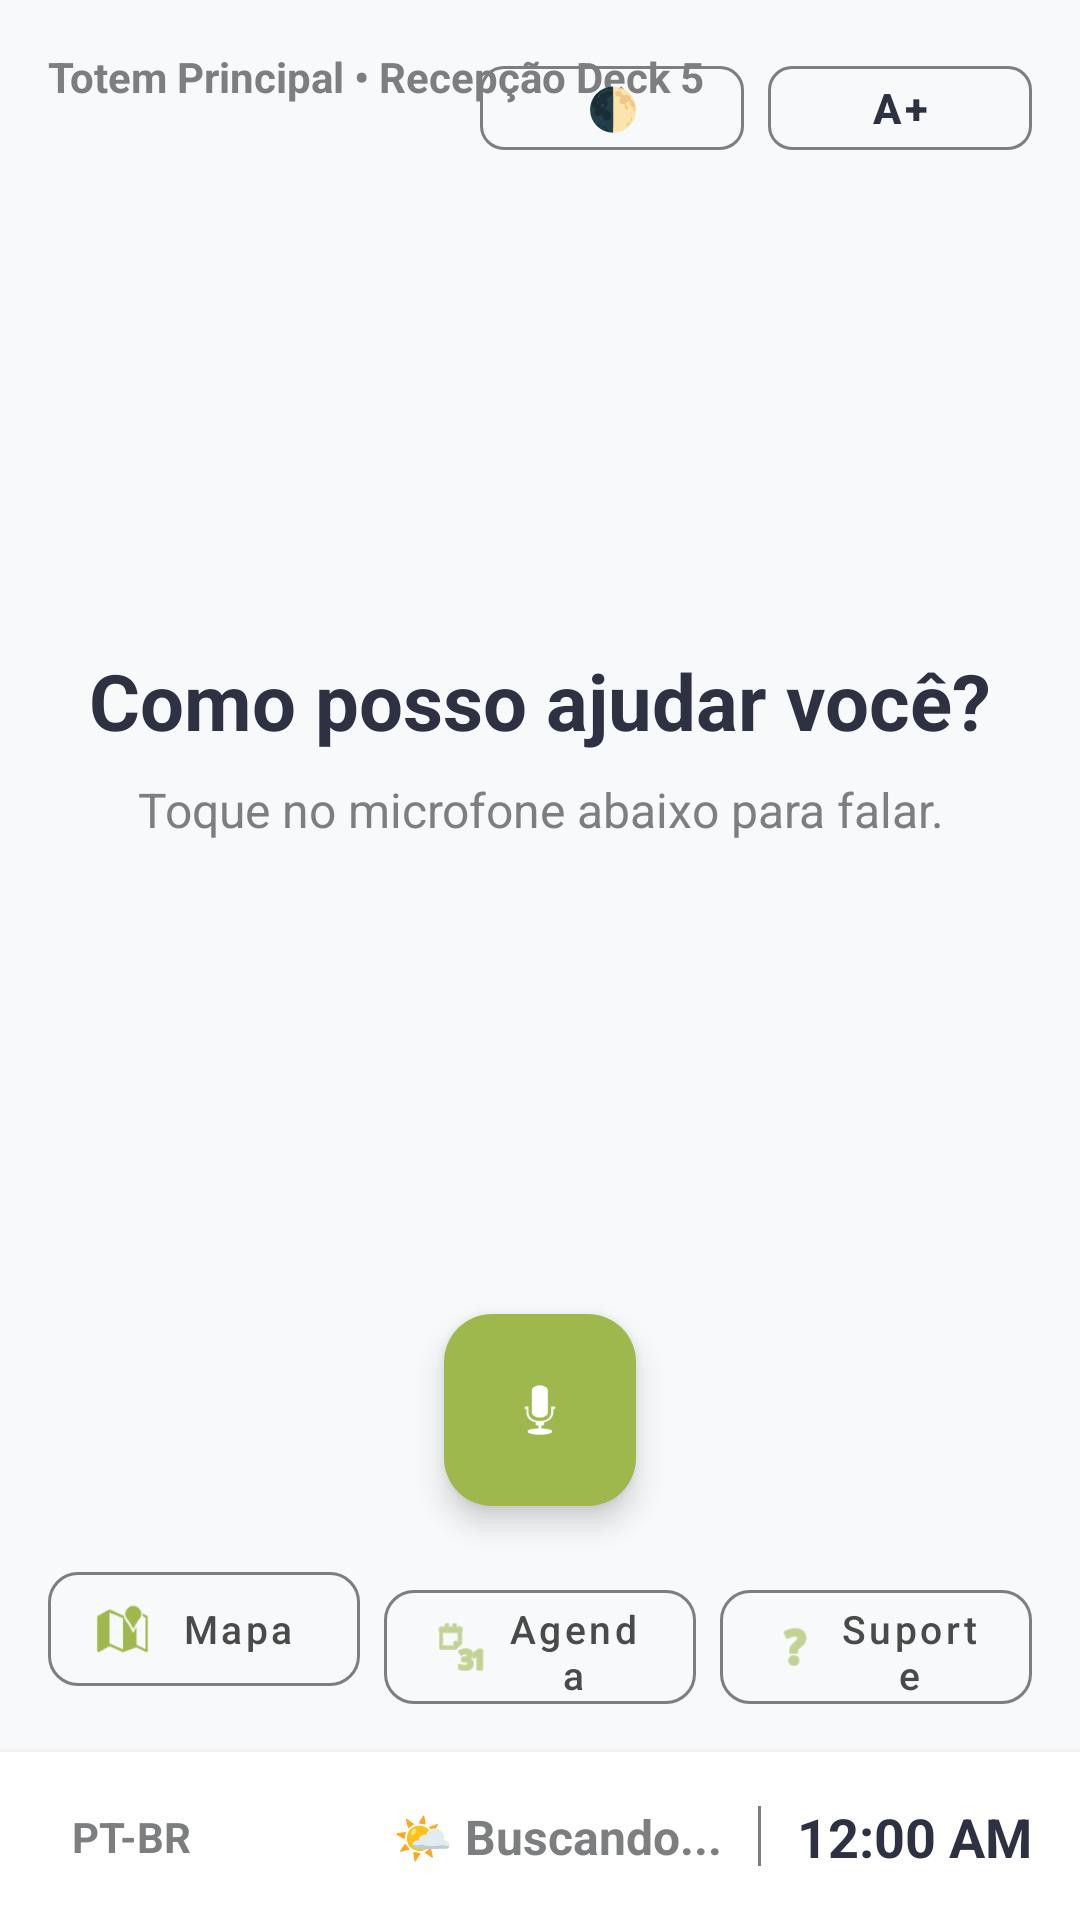

Screen size 1080px x 1920px. Icon name, then its center in pixels as [x,y]:
speak now: [540,1410]
